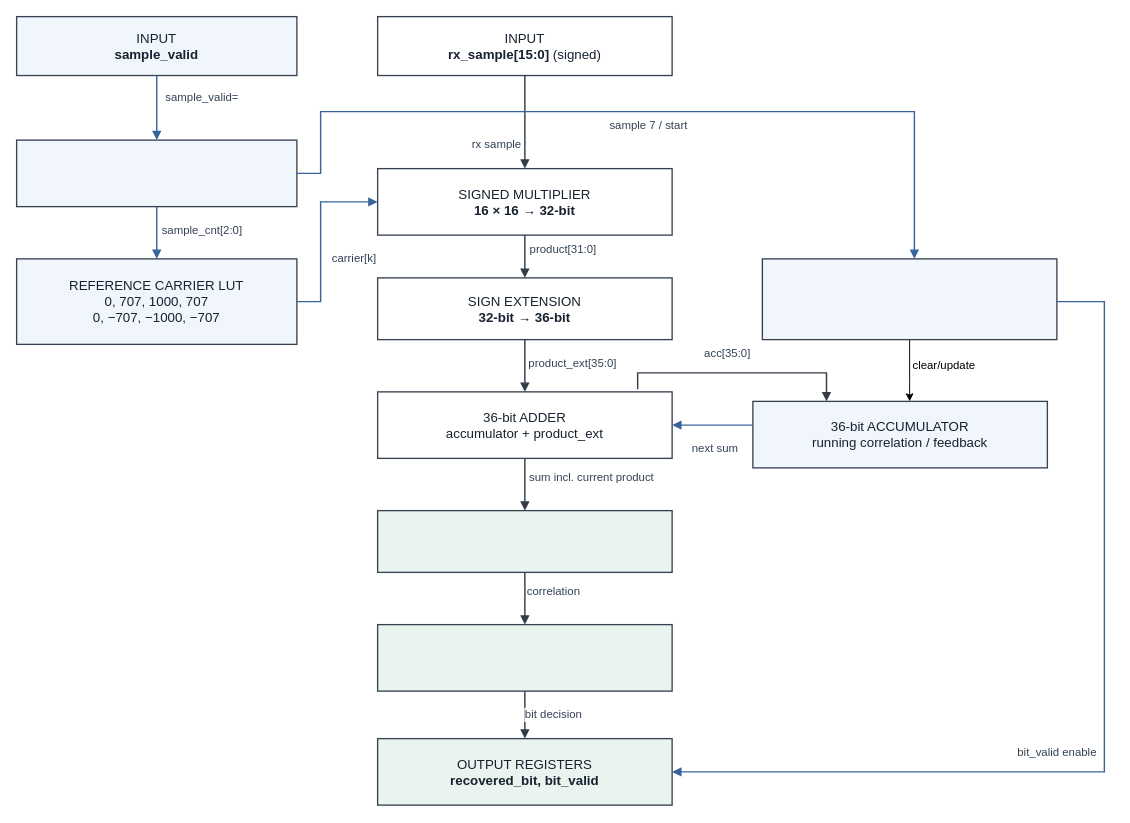
This 1130x823 diagram has some shape labels left out. Here are the shapes that lost their labels. From the top down, the box of each, then its label:
(15, 139, 297, 207): SAMPLE COUNTER (3-bit) 0–7, advance on sample_valid
(761, 258, 1057, 340): SYMBOL CONTROL clear accumulator at new symbol decide + pulse valid at sample 7
(376, 509, 672, 573): CORRELATION SUM including sample 7 product
(376, 623, 672, 691): DECISION LOGIC correlation < 0 → bit 1 otherwise → bit 0
